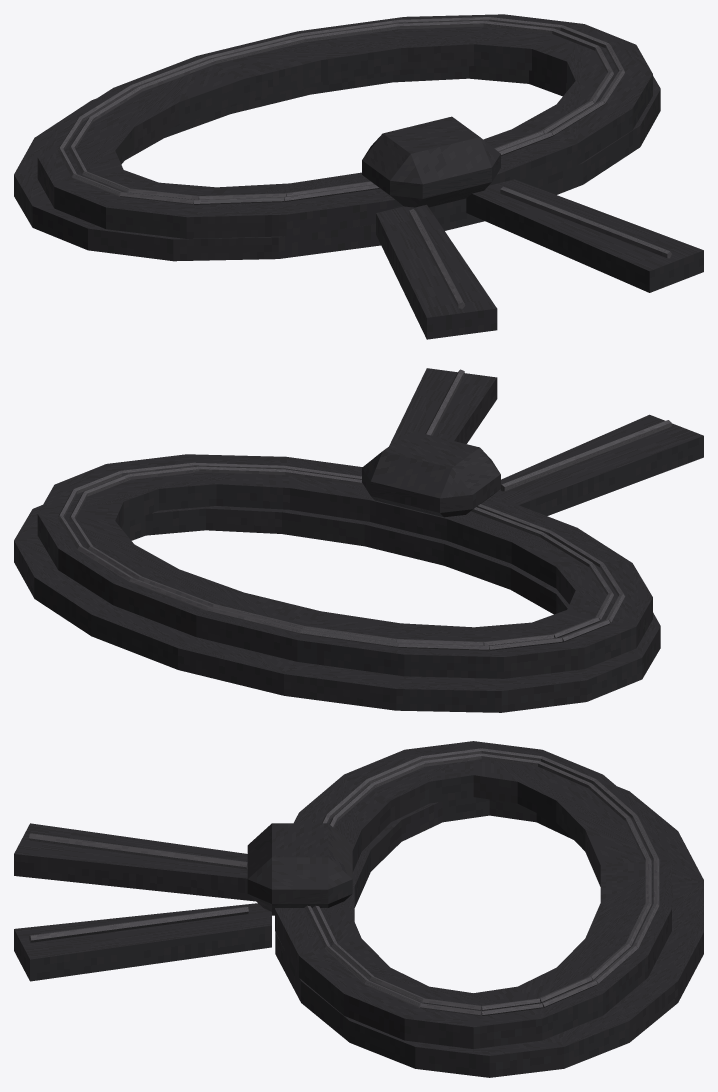
The model's file is obi_gi.glb.
3 renders of one model, top to bottom at view 1: azimuth 30°, elevation 25°; view 2: azimuth 150°, elevation 25°; view 3: azimuth 270°, elevation 25°, orthographic.
Visible parts, largest first — view 1: block_second wrap, block_hanging tail (×2), block_wrapped belt, block_square knot, block_stitched rows 0 (×2), block_stitched rows 14, block_stitched rows 13, block_stitched rows 15, block_stitched rows 5, block_stitched rows 6, block_stitched rows 12; view 2: block_second wrap, block_wrapped belt, block_hanging tail (×2), block_square knot, block_stitched rows 0 (×2), block_stitched rows 12, block_stitched rows 13, block_stitched rows 2; view 3: block_second wrap, block_wrapped belt, block_hanging tail (×2), block_square knot, block_stitched rows 0 (×2).
Boxes of the visible parts, x1,y1,x2,y2 form: block_second wrap: [37, 14, 652, 238]; block_hanging tail (×2): [376, 179, 703, 339]; block_wrapped belt: [14, 66, 660, 261]; block_square knot: [362, 116, 500, 207]; block_stitched rows 0 (×2): [409, 186, 671, 308]; block_stitched rows 14: [303, 23, 397, 42]; block_stitched rows 13: [214, 37, 304, 63]; block_stitched rows 15: [397, 20, 483, 29]; block_stitched rows 5: [284, 184, 379, 201]; block_stitched rows 6: [193, 197, 284, 204]; block_stitched rows 12: [140, 58, 215, 91]; block_second wrap: [37, 454, 652, 678]; block_wrapped belt: [14, 505, 660, 712]; block_hanging tail (×2): [389, 368, 703, 515]; block_square knot: [362, 430, 500, 517]; block_stitched rows 0 (×2): [425, 369, 671, 491]; block_stitched rows 12: [300, 629, 398, 647]; block_stitched rows 13: [207, 606, 301, 633]; block_stitched rows 2: [199, 466, 285, 475]; block_second wrap: [275, 741, 671, 1048]; block_wrapped belt: [275, 786, 703, 1077]; block_hanging tail (×2): [14, 823, 271, 981]; block_square knot: [247, 823, 352, 915]; block_stitched rows 0 (×2): [29, 833, 248, 942].
Size of the model in its own units: 0.1795 by 0.0245 by 0.1746.
1 material, 1 textured.
